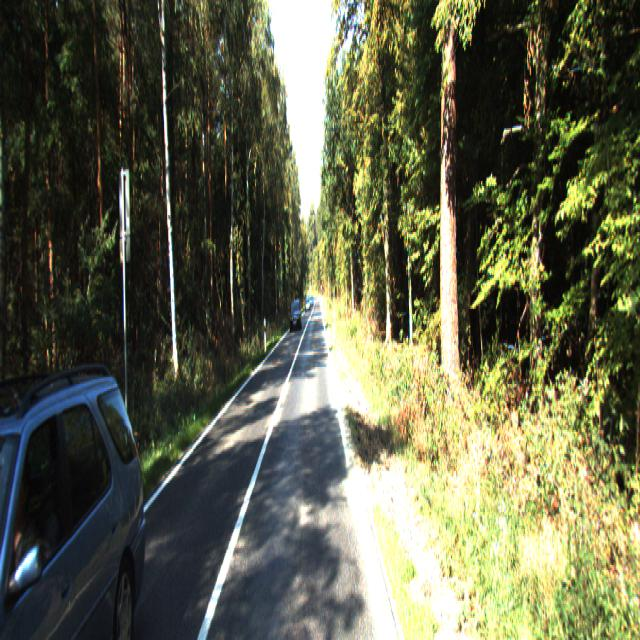Car: (0, 342, 169, 638), (289, 299, 302, 332)
